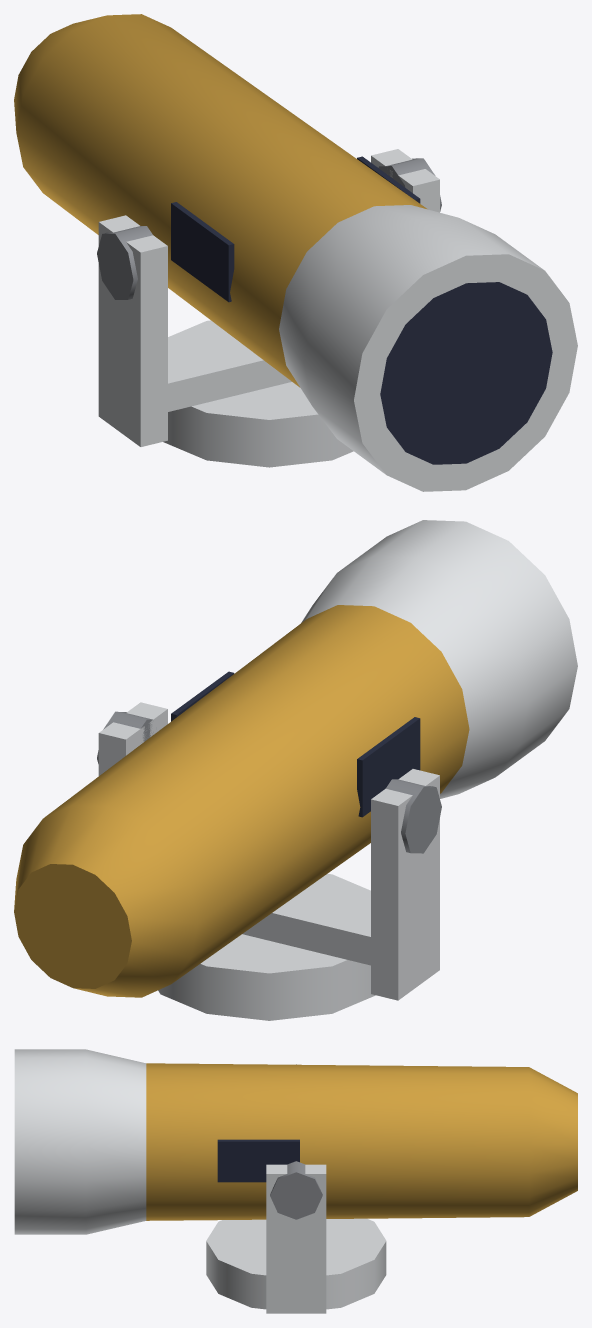
File: sm1_optics.obj
3 views of the same model, one above another, from view 1: azimuth 30°, elevation 25°; view 2: azimuth 150°, elevation 25°; view 3: azimuth 270°, elevation 25° (orthographic). The views are drawn at different scales.
Parts seen in each view (by area): view 1: sm1_optics; view 2: sm1_optics; view 3: sm1_optics.
Boxes of the visible parts, bbox=[...] form: sm1_optics: bbox=[14, 14, 577, 491]; sm1_optics: bbox=[14, 520, 577, 1020]; sm1_optics: bbox=[14, 1049, 577, 1313].
Bounding box in the file's own units: 0.68 × 0.637 × 1.5.
